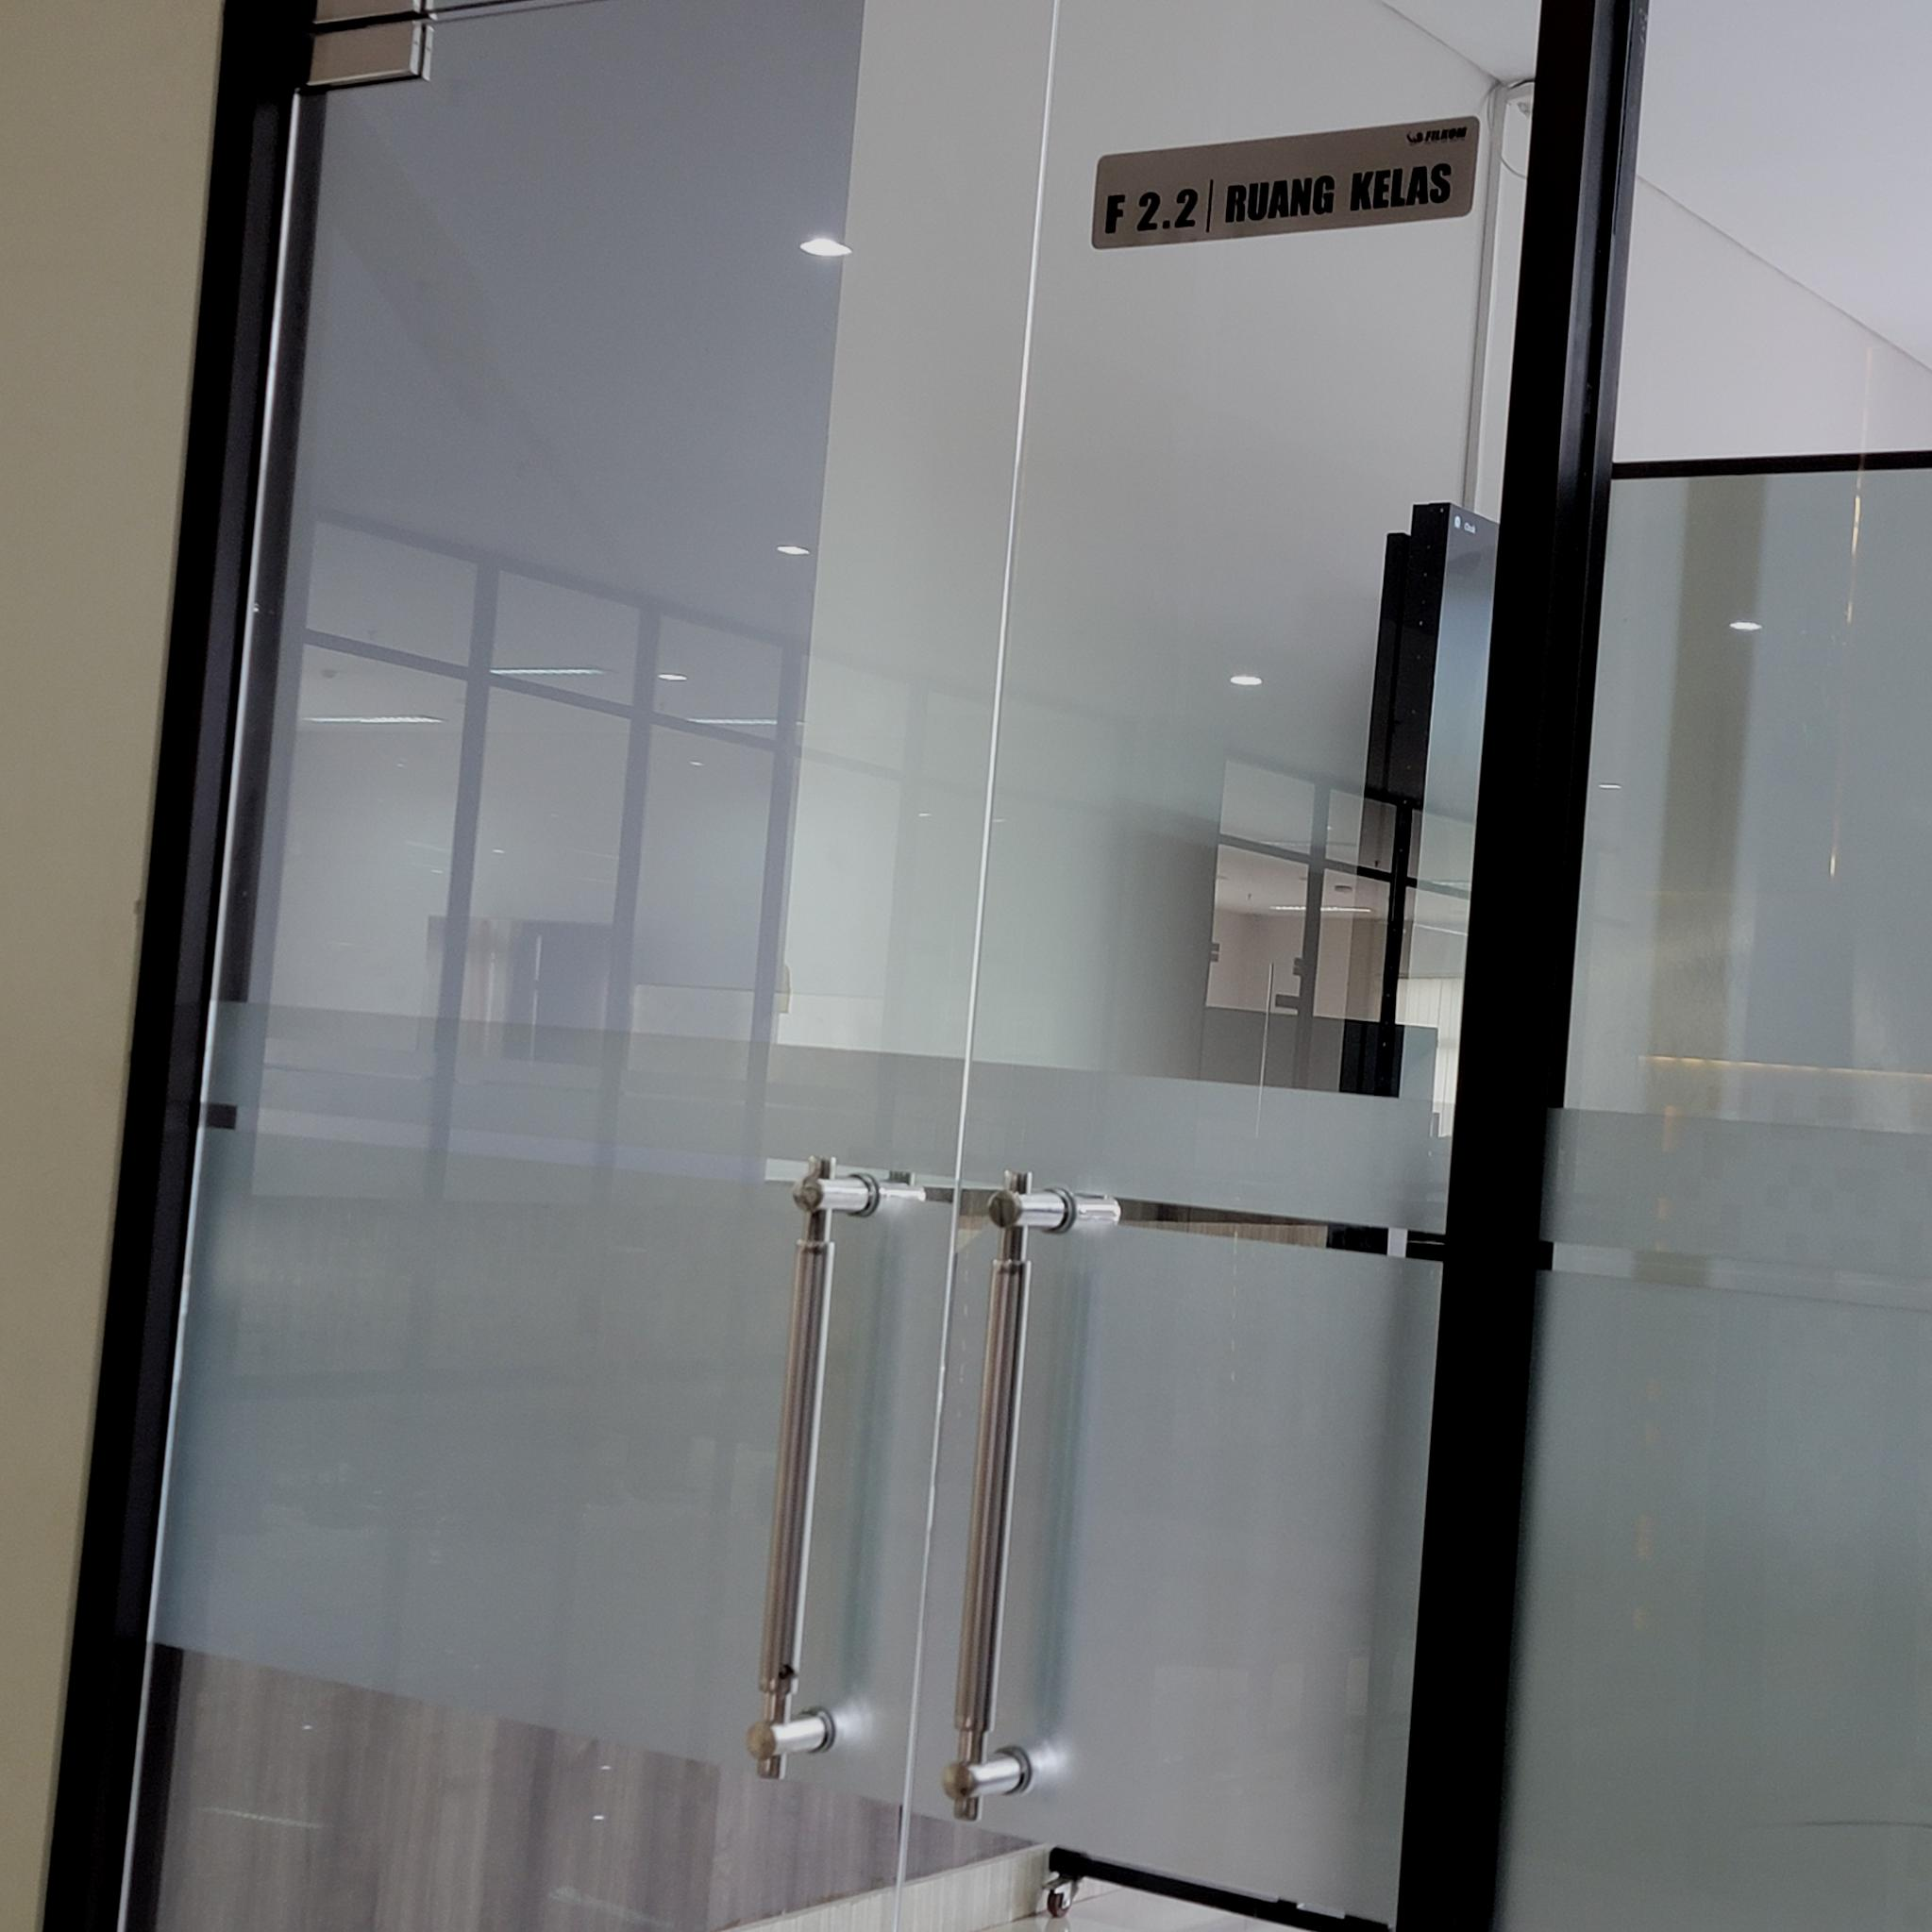plate: (1092, 117, 1477, 251)
